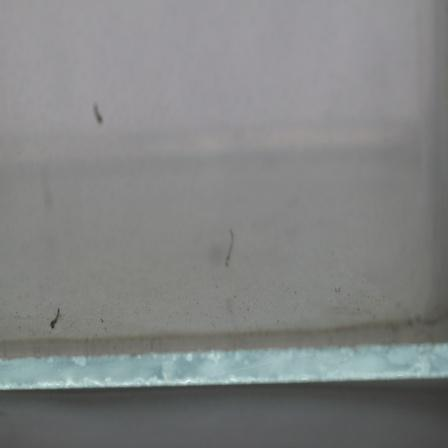Jentik-Nyamuk: (218, 223, 238, 273), (46, 304, 63, 332)
